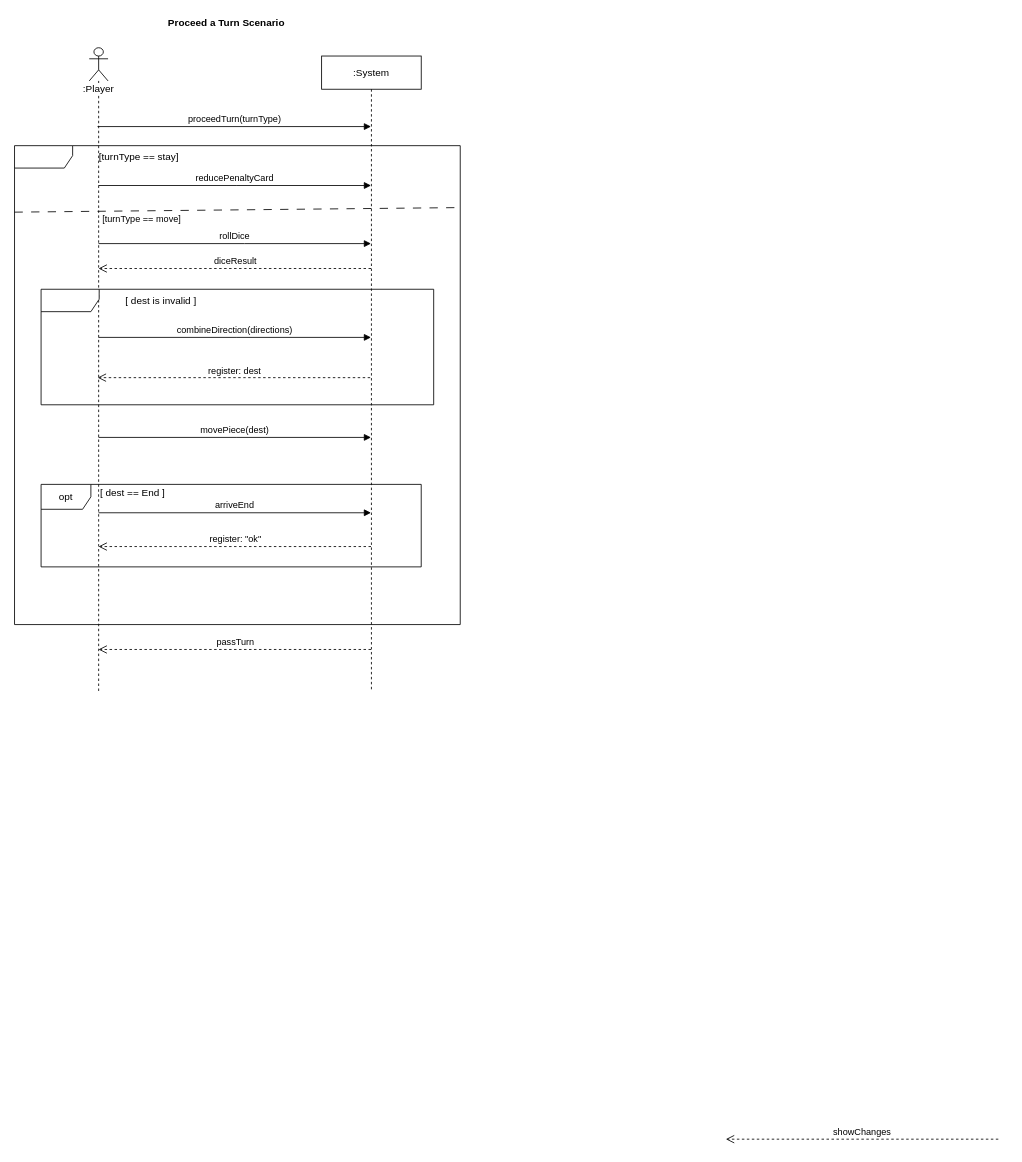
Some shapes in this 1022 by 1162 pixel diagram are drawn without their labels. Here are the shapes that lost their labels. From the top down, the box of each, then its label:
(40, 288, 434, 405): loop
(14, 145, 460, 625): alt
